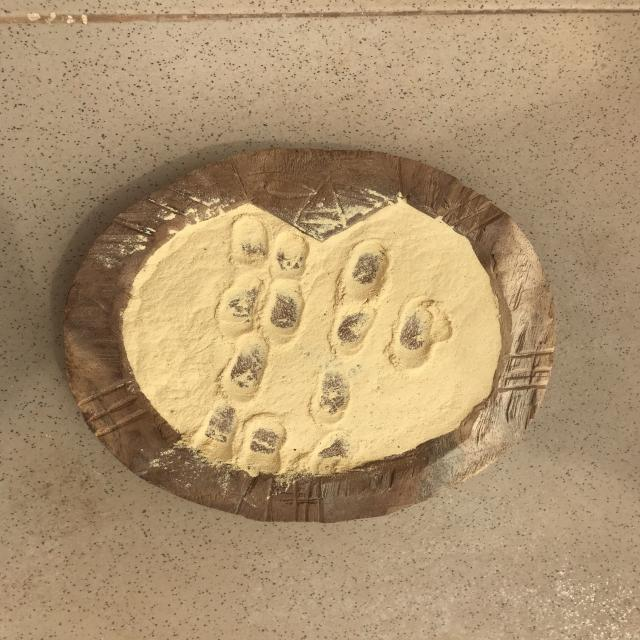double: (325, 296, 453, 366), (216, 272, 308, 340), (192, 406, 290, 468), (229, 212, 310, 274)
single: (334, 236, 398, 297), (216, 334, 277, 398), (307, 430, 367, 474), (308, 366, 352, 426)
